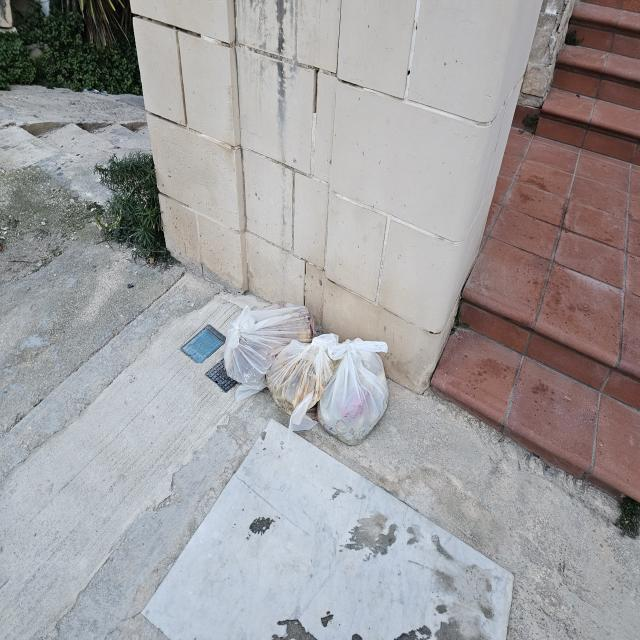white_bag: (222, 299, 316, 398), (317, 335, 393, 449), (264, 326, 345, 419)
